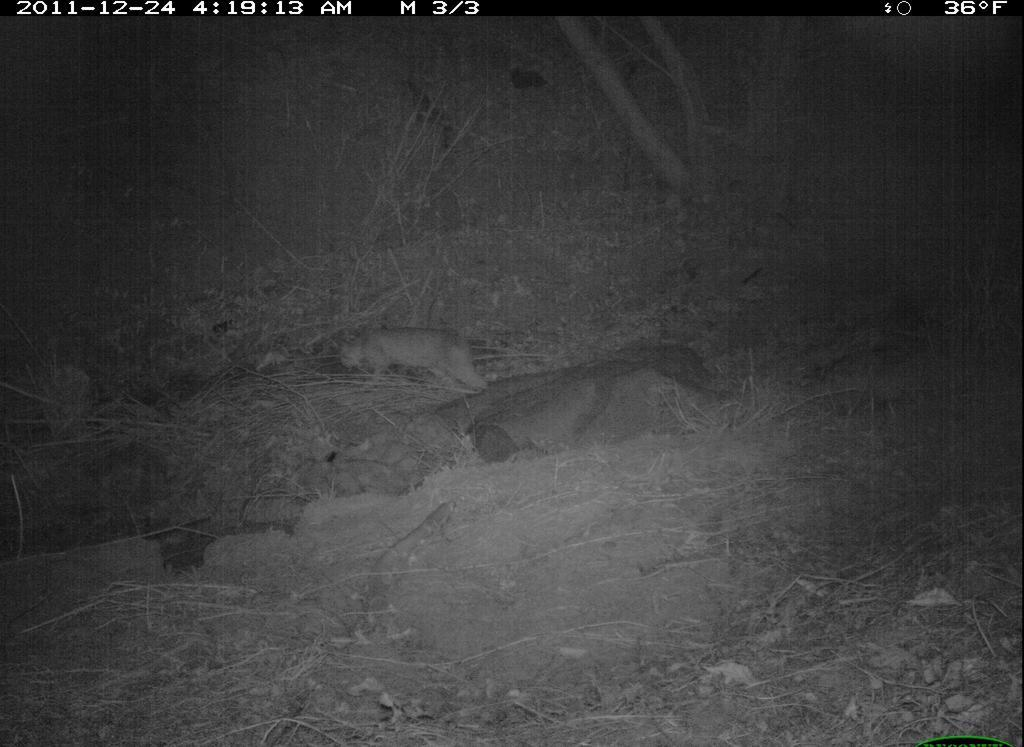bobcat: (338, 323, 492, 401)
